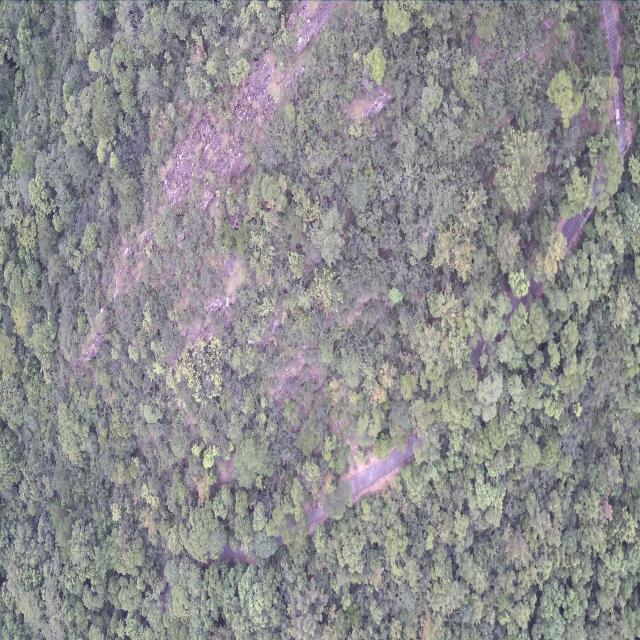drone: (222, 296, 232, 310)
